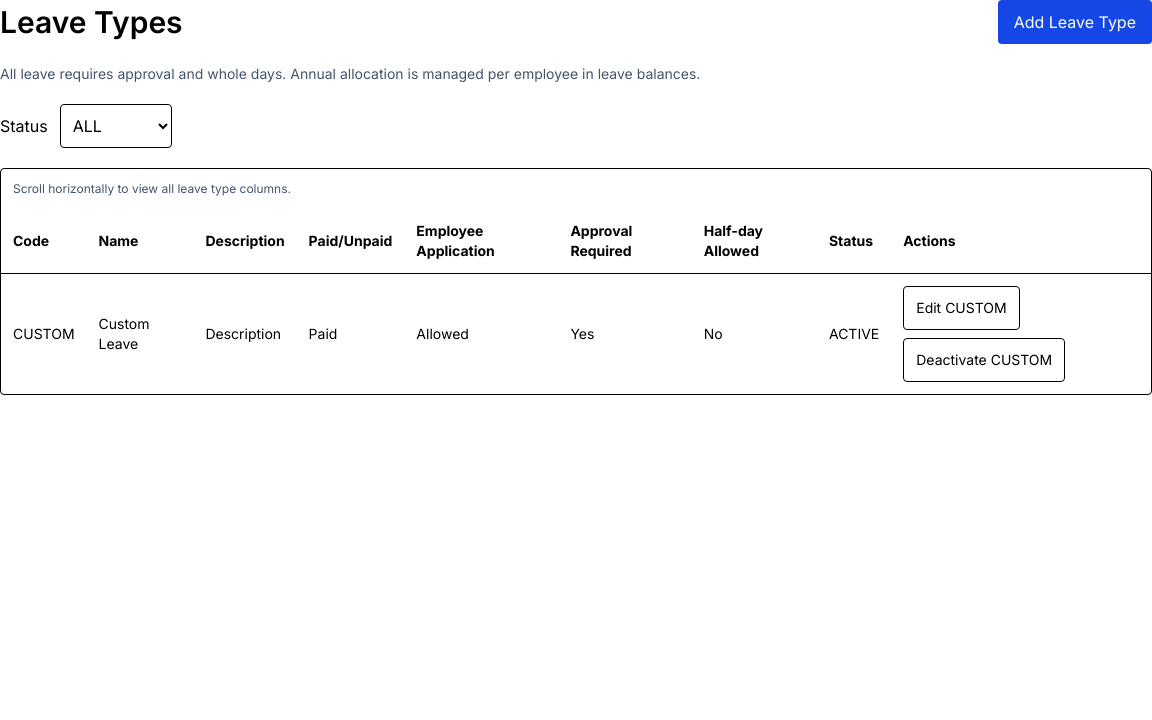
Test: Phase 12 leave types › prefills edit and sends full replacement without code
Click the button "Edit CUSTOM" at (961, 308), box [903,286,1020,330]
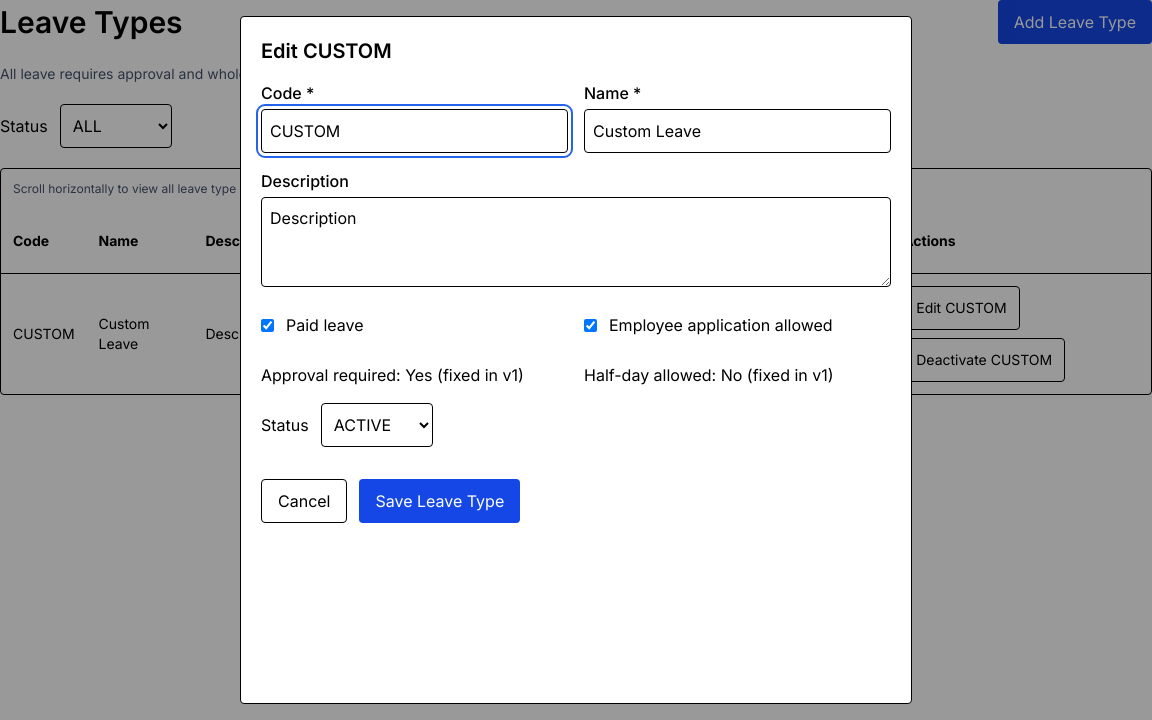
Now the text "Approval required: Yes (fixed in v1)" is shown, box [261,363,568,387]
Replace the text in the field labelled "Name *" with " Renamed " at (738, 131), box [584,109,891,153]
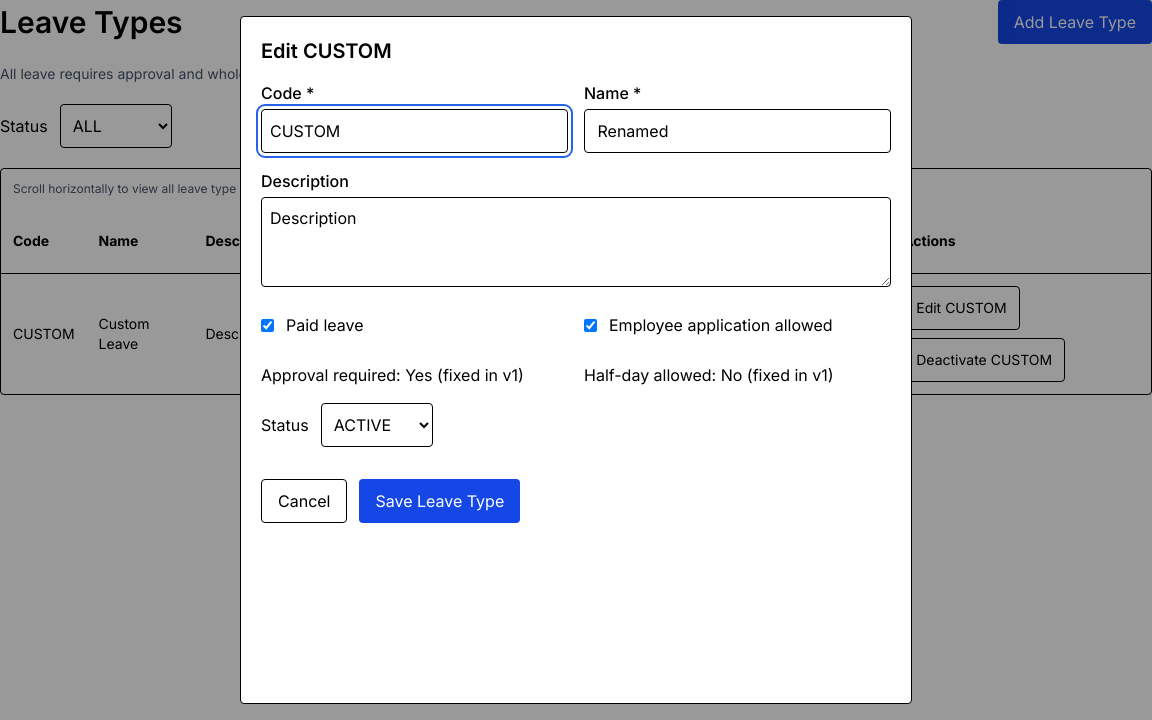
Click the button "Save Leave Type" at (440, 501), box [360,479,520,523]
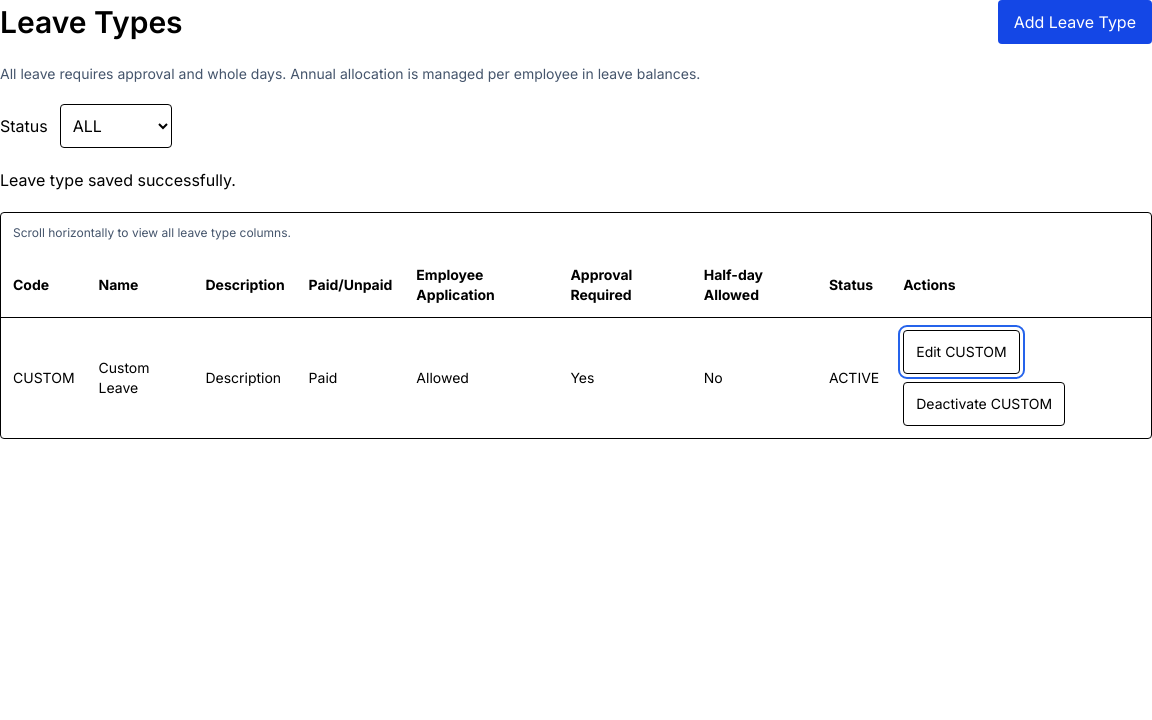
Now the text "Leave type saved successfully." is shown, box [0,170,236,190]
